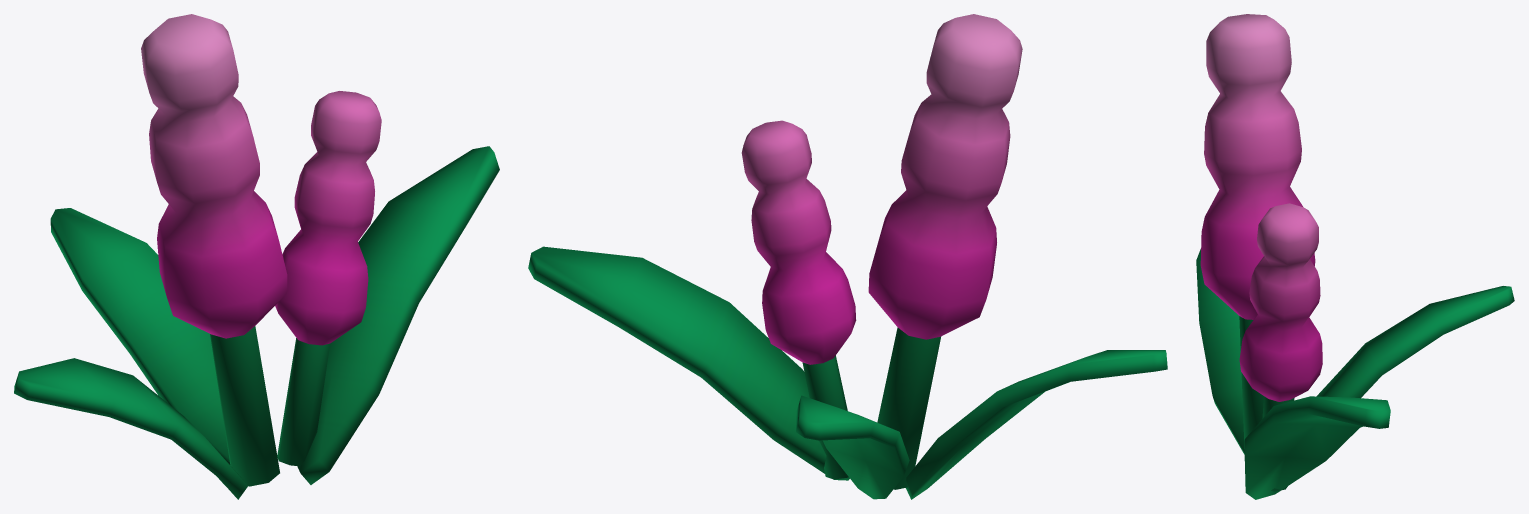
File: Flover_02.02.fbx
3 renders of one model, left to right at view 1: azimuth 30°, elevation 25°; view 2: azimuth 150°, elevation 25°; view 3: azimuth 270°, elevation 25°, orthographic. The views are drawn at different scales.
Parts seen in each view (by area): view 1: Flover_02.02; view 2: Flover_02.02; view 3: Flover_02.02.
Boxes of the visible parts, box(x1,y1,x2,y2) form: Flover_02.02: box(14, 14, 499, 499); Flover_02.02: box(528, 14, 1167, 499); Flover_02.02: box(1196, 14, 1514, 499).
Size of the model in its own units: 52.79 by 29.67 by 44.01.
